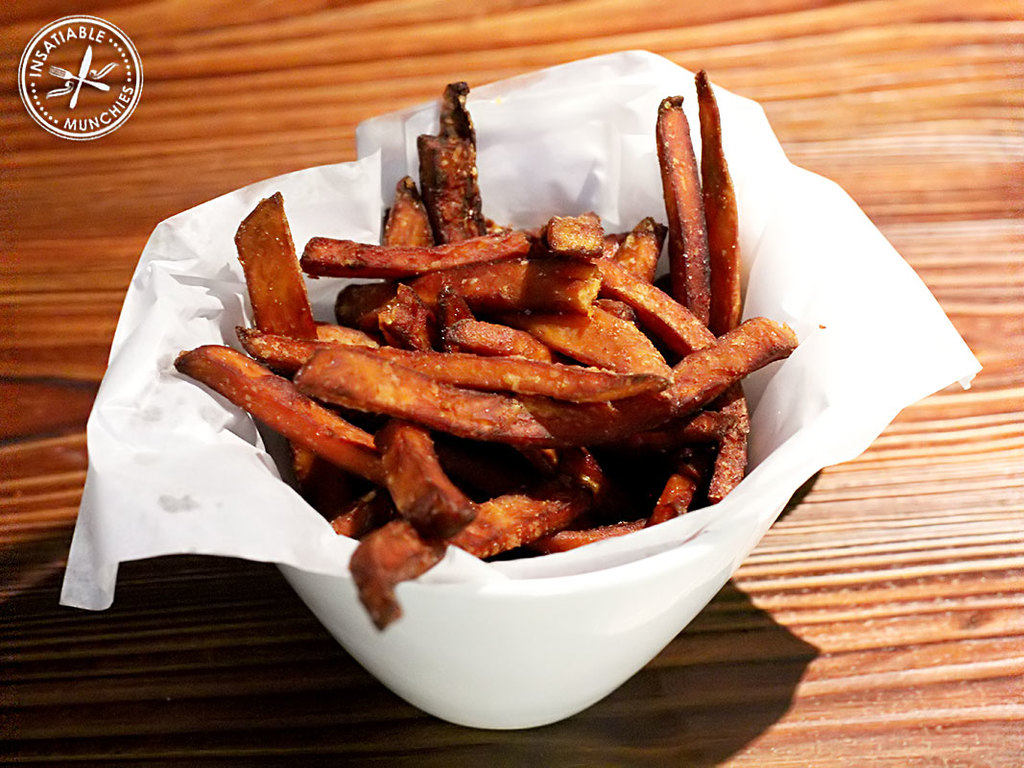French fries: (184, 171, 793, 579)
